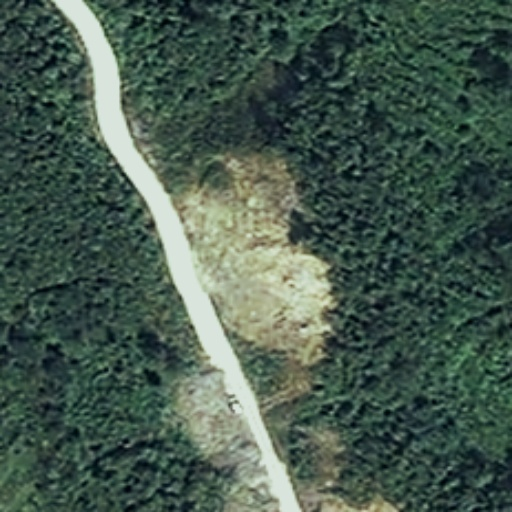landslide: (177, 149, 333, 365)
